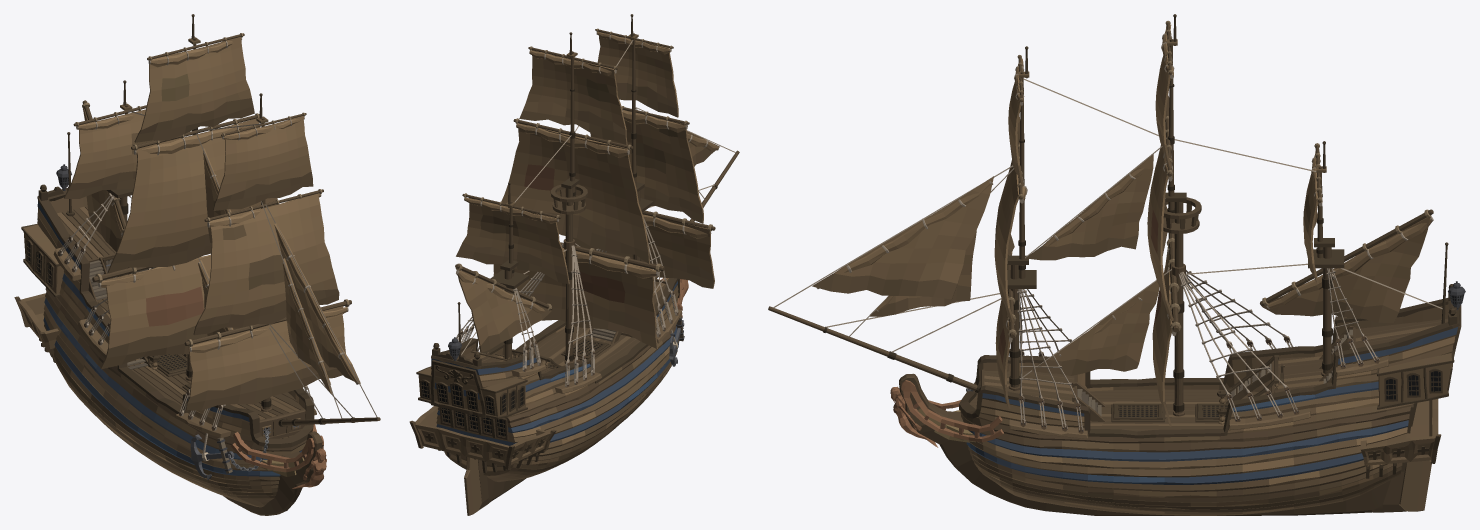
The model's file is SM_Veh_Boat_Warship_01_Hull_Upsized_Pirate.glb.
3 views of the same model, side by side, from view 1: azimuth 30°, elevation 25°; view 2: azimuth 150°, elevation 25°; view 3: azimuth 270°, elevation 25° (orthographic). The views are drawn at different scales.
Visible parts, largest first — view 1: mesh_id5, node_id14, node_id18, node_id28, node_id10, node_id22, node_id8, node_id24, node_id30, node_id6, node_id20; view 2: mesh_id5, node_id18, node_id14, node_id28, node_id10, node_id24, node_id8, node_id6; view 3: mesh_id5, node_id20, node_id22, node_id24, node_id28, node_id6, node_id10, node_id18, node_id14, node_id8, node_id30.
Part boxes in pixels (x1=…): mesh_id5: x1=14, y1=132, x2=380, y2=515; node_id14: x1=186, y1=116, x2=345, y2=410; node_id18: x1=100, y1=37, x2=277, y2=369; node_id28: x1=64, y1=109, x2=180, y2=251; node_id10: x1=92, y1=14, x2=259, y2=380; node_id22: x1=274, y1=223, x2=360, y2=393; node_id8: x1=184, y1=93, x2=351, y2=411; node_id24: x1=57, y1=110, x2=377, y2=430; node_id30: x1=198, y1=153, x2=358, y2=384; node_id6: x1=73, y1=80, x2=146, y2=276; node_id20: x1=200, y1=148, x2=233, y2=335; mesh_id5: x1=409, y1=150, x2=739, y2=515; node_id18: x1=493, y1=50, x2=657, y2=348; node_id14: x1=573, y1=31, x2=714, y2=288; node_id28: x1=456, y1=198, x2=569, y2=352; node_id10: x1=513, y1=32, x2=664, y2=363; node_id24: x1=456, y1=40, x2=735, y2=387; node_id8: x1=595, y1=14, x2=715, y2=266; node_id6: x1=455, y1=182, x2=561, y2=359; mesh_id5: x1=768, y1=242, x2=1465, y2=515; node_id20: x1=1026, y1=154, x2=1159, y2=375; node_id22: x1=812, y1=176, x2=993, y2=316; node_id24: x1=773, y1=78, x2=1442, y2=433; node_id28: x1=1261, y1=158, x2=1430, y2=322; node_id6: x1=1260, y1=141, x2=1433, y2=376; node_id10: x1=1161, y1=14, x2=1201, y2=416; node_id18: x1=1147, y1=24, x2=1173, y2=426; node_id14: x1=994, y1=59, x2=1023, y2=408; node_id8: x1=1005, y1=46, x2=1036, y2=390; node_id30: x1=817, y1=157, x2=1149, y2=356.
Bounding box in the file's own units: 0.2371 × 0.512 × 0.646.
Materials: 14 (14 with a texture image).
